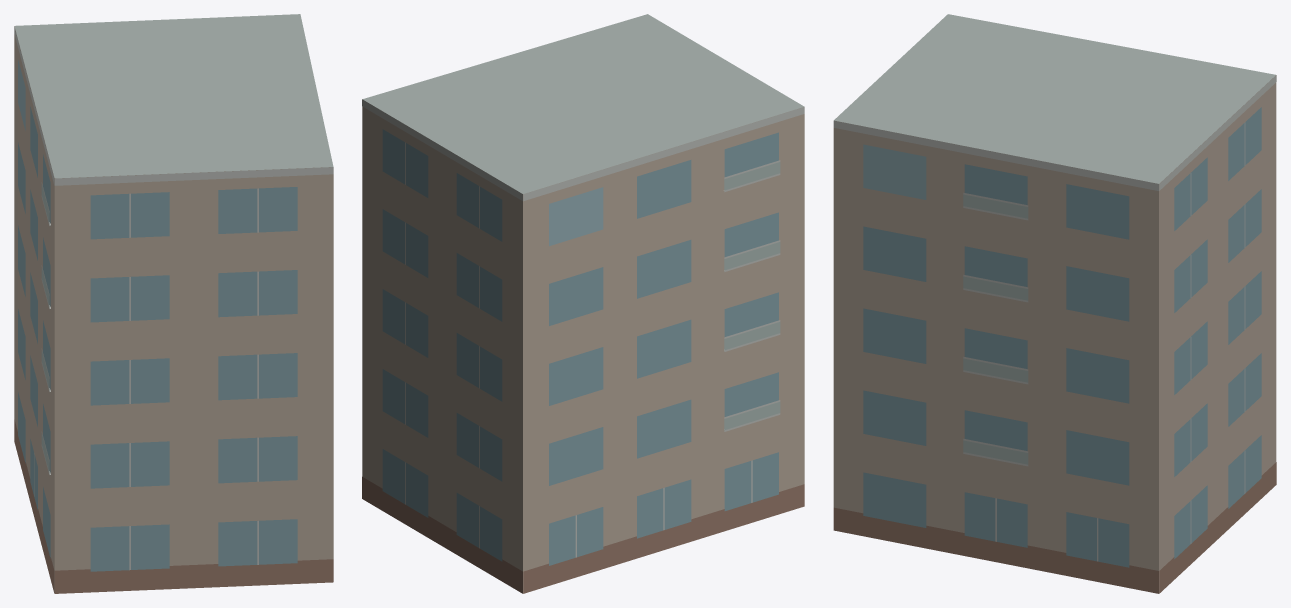
Rendered from survey-upis-32899622.glb.
The picture shows the model from 3 angles, left to right: view 1: azimuth 30°, elevation 25°; view 2: azimuth 150°, elevation 25°; view 3: azimuth 270°, elevation 25°; orthographic projection. The views are drawn at different scales.
Parts seen in each view (by area): view 1: survey-upis-32899622.tmp; view 2: survey-upis-32899622.tmp; view 3: survey-upis-32899622.tmp.
Part boxes in pixels (x1,y1,x2,y2): survey-upis-32899622.tmp: [14, 14, 333, 593]; survey-upis-32899622.tmp: [362, 14, 804, 593]; survey-upis-32899622.tmp: [833, 14, 1276, 593].
Bounding box in the file's own units: 12.19 × 13.7 × 13.42.
